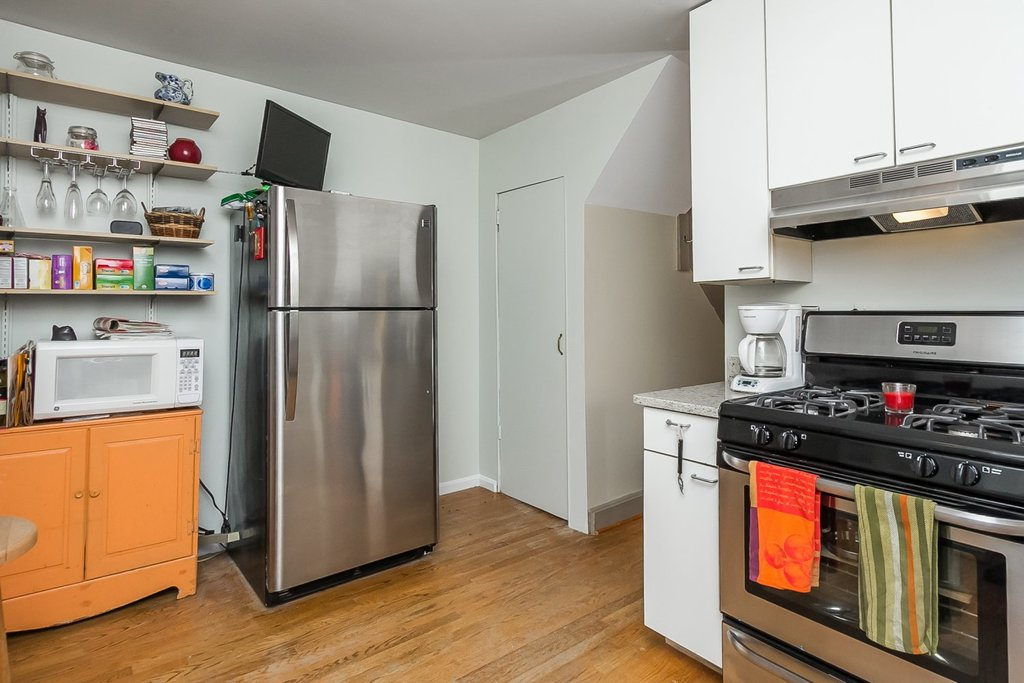Refrigerator: (214, 182, 436, 608)
